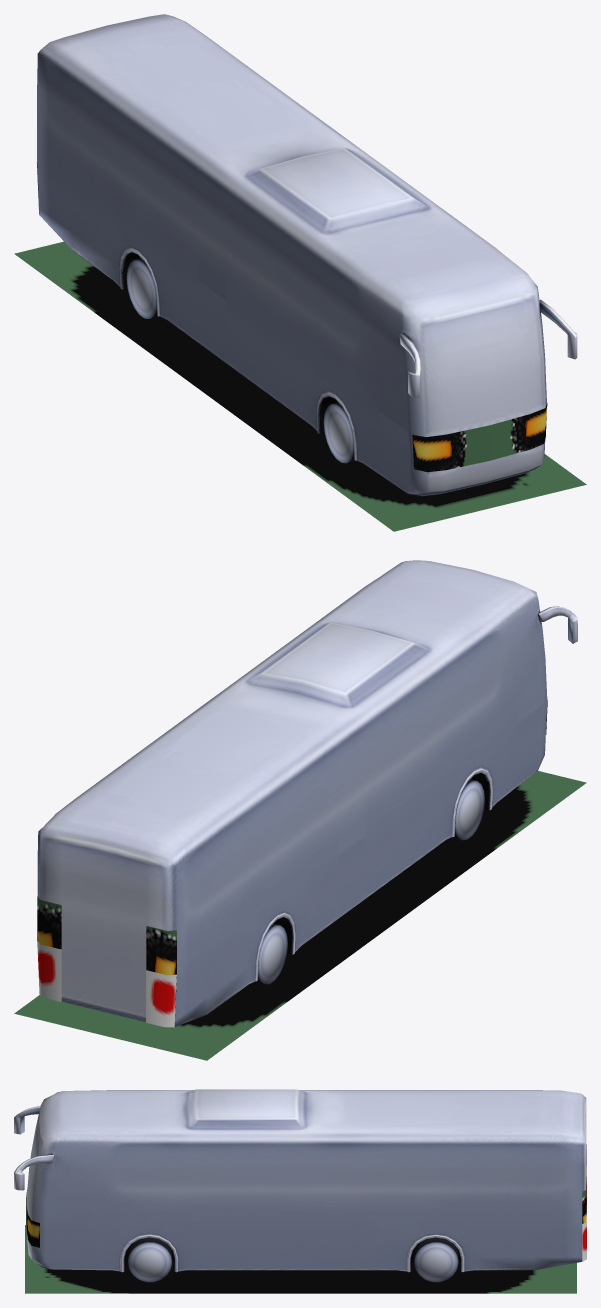
Rendered from BUS.fbx.
3 renders of one model, top to bottom at view 1: azimuth 30°, elevation 25°; view 2: azimuth 150°, elevation 25°; view 3: azimuth 270°, elevation 25°, orthographic. The views are drawn at different scales.
Visible parts, largest first — view 1: CA_Car, CA_Shadow, CA_LF, CA_RB, CA_RDirection, CA_LDirection, CA_W_RF, CA_WB; view 2: CA_Car, CA_Shadow, CA_RB, CA_Stop, CA_LF, CA_RDirection, CA_WB, CA_W_RF, CA_LDirection; view 3: CA_Car, CA_Shadow, CA_W_LF, CA_WB, CA_LDirection.
Part boxes in pixels (left/top/right/bottom): CA_Car: left=37, top=14, right=577, bottom=496; CA_Shadow: left=14, top=241, right=586, bottom=531; CA_LF: left=379, top=367, right=410, bottom=491; CA_RB: left=198, top=236, right=228, bottom=364; CA_RDirection: left=37, top=164, right=489, bottom=472; CA_LDirection: left=489, top=403, right=547, bottom=460; CA_W_RF: left=323, top=402, right=356, bottom=463; CA_WB: left=126, top=258, right=159, bottom=318; CA_Car: left=37, top=560, right=577, bottom=1026; CA_Shadow: left=14, top=771, right=586, bottom=1060; CA_RB: left=336, top=792, right=365, bottom=920; CA_Stop: left=37, top=941, right=176, bottom=1027; CA_LF: left=514, top=661, right=543, bottom=788; CA_RDirection: left=146, top=700, right=547, bottom=1026; CA_WB: left=255, top=923, right=287, bottom=984; CA_W_RF: left=451, top=779, right=484, bottom=840; CA_LDirection: left=37, top=896, right=61, bottom=949; CA_Car: left=14, top=1089, right=586, bottom=1272; CA_Shadow: left=25, top=1225, right=576, bottom=1293; CA_W_LF: left=127, top=1237, right=172, bottom=1282; CA_WB: left=414, top=1237, right=458, bottom=1282; CA_LDirection: left=26, top=1190, right=586, bottom=1247.
Size of the model in its own units: 3.43 by 3.64 by 12.12.
